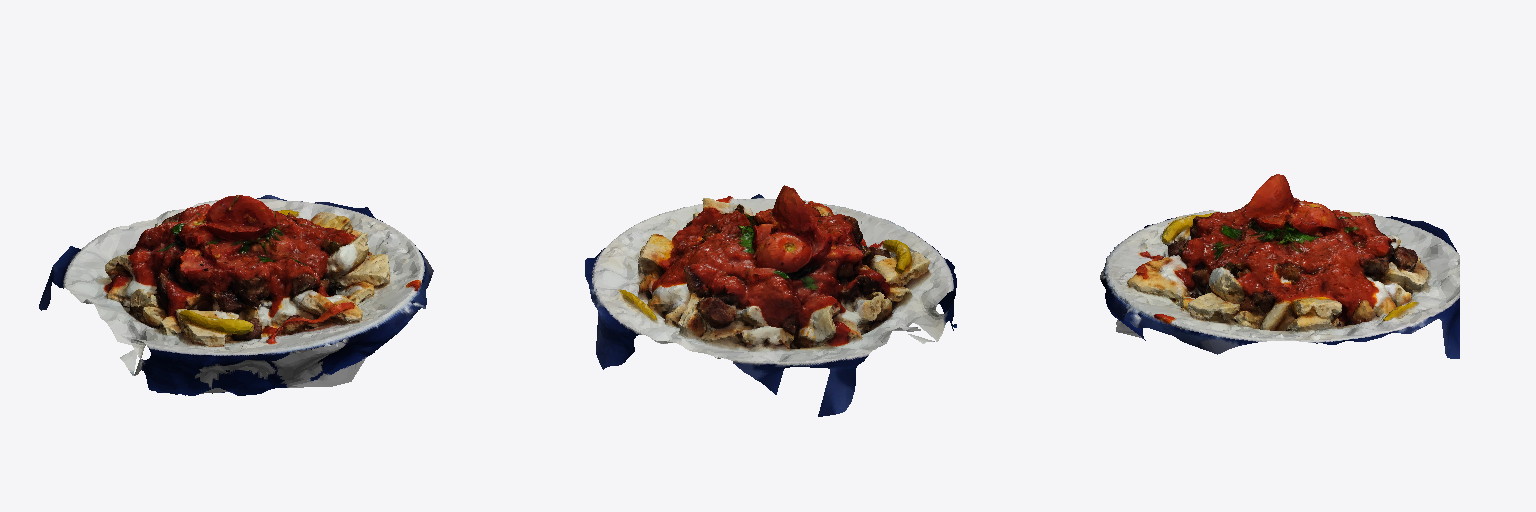
3 renders of one model, left to right at view 1: azimuth 30°, elevation 25°; view 2: azimuth 150°, elevation 25°; view 3: azimuth 270°, elevation 25°, orthographic.
Parts seen in each view (by area): view 1: Object_0; view 2: Object_0; view 3: Object_0.
Part boxes in pixels (x1,y1,x2,y2): Object_0: (39, 195, 433, 395); Object_0: (585, 185, 956, 416); Object_0: (1100, 174, 1459, 358).
Bounding box in the file's own units: 17.2 × 7.78 × 18.32.
1 materials, 1 textured.